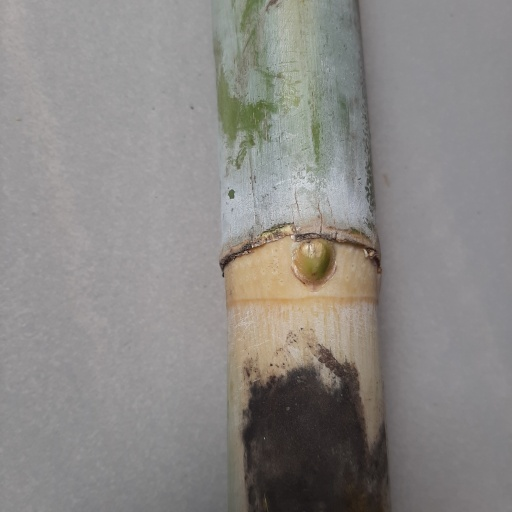Bud: (291, 238, 338, 286)
